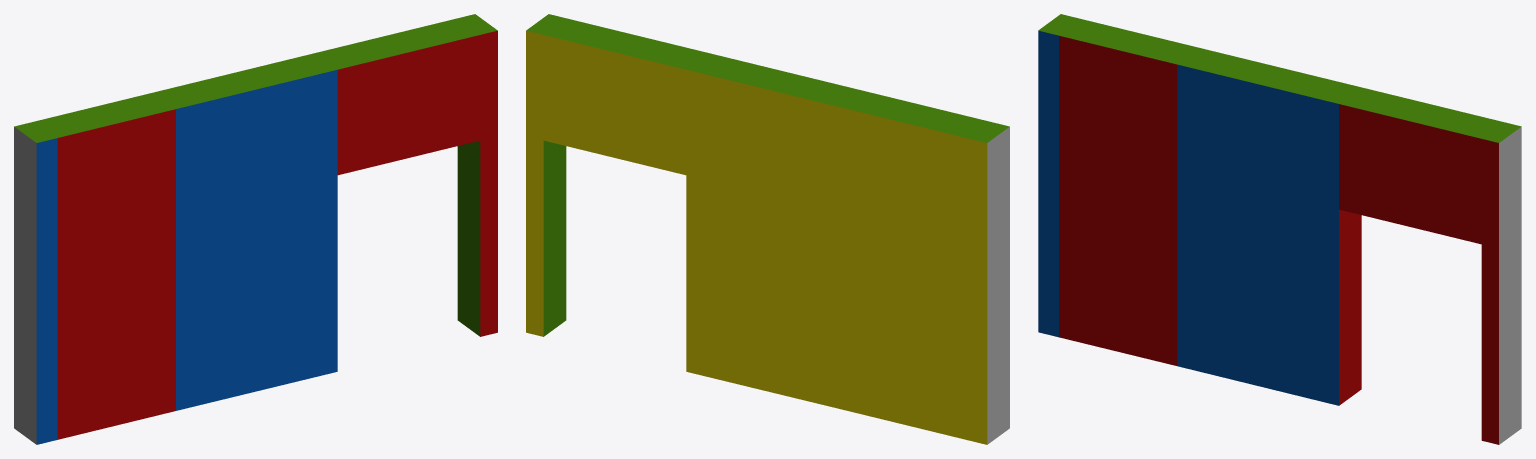
Rendered from Door 3.fbx.
3 views of the same model, side by side, from view 1: azimuth 30°, elevation 25°; view 2: azimuth 150°, elevation 25°; view 3: azimuth 330°, elevation 25° (orthographic).
Parts seen in each view (by area): view 1: Door_R; view 2: Door_R; view 3: Door_R.
Boxes of the visible parts, x1=… form: Door_R: x1=14, y1=14, x2=497, y2=444; Door_R: x1=526, y1=14, x2=1009, y2=444; Door_R: x1=1038, y1=14, x2=1521, y2=444.
Size of the model in its own units: 58.11 by 36.37 by 4.95.
